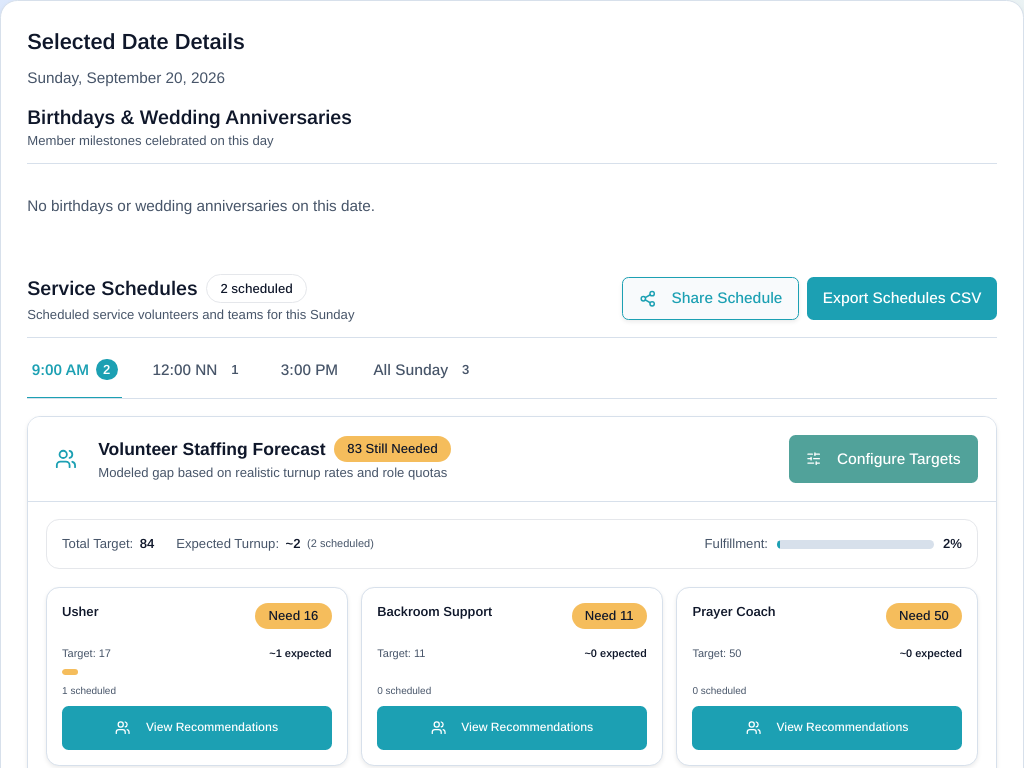
Test: SelectedDateDetails › renders Share Schedule button on scheduled Sunday and opens dialog when clicked
This screenshot has width=1024, height=768.
Click the button "Share Schedule": (711, 298) [622, 276, 799, 320]
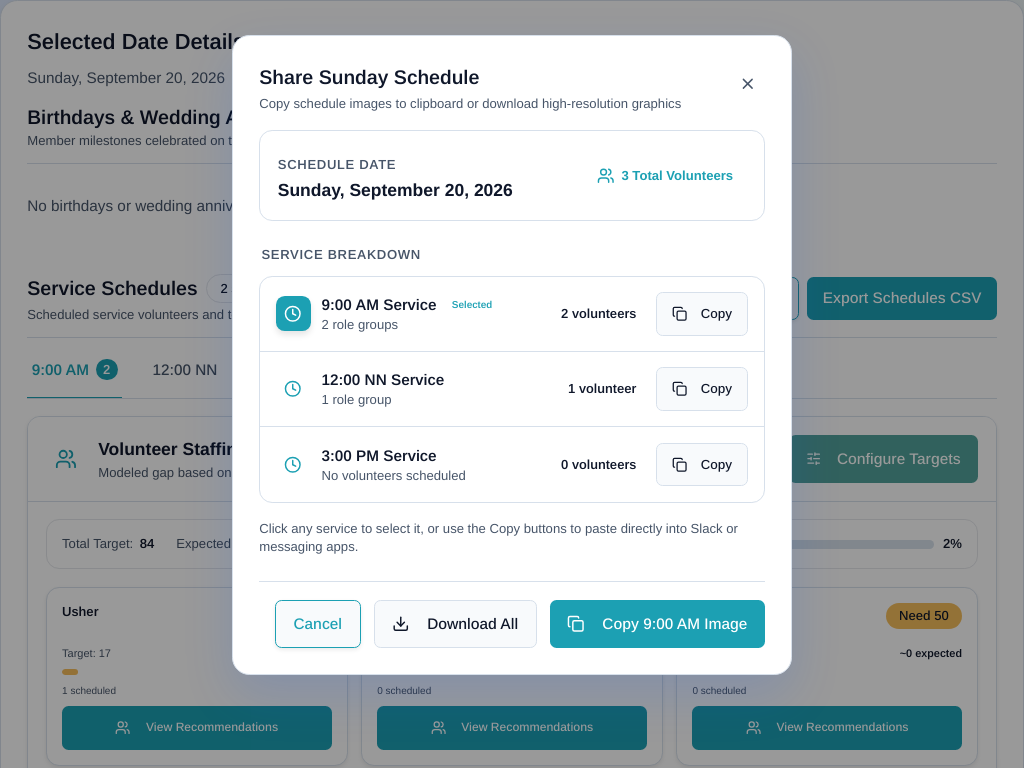
Expected: the heading "Share Sunday Schedule" is shown, [259, 66, 480, 88]
